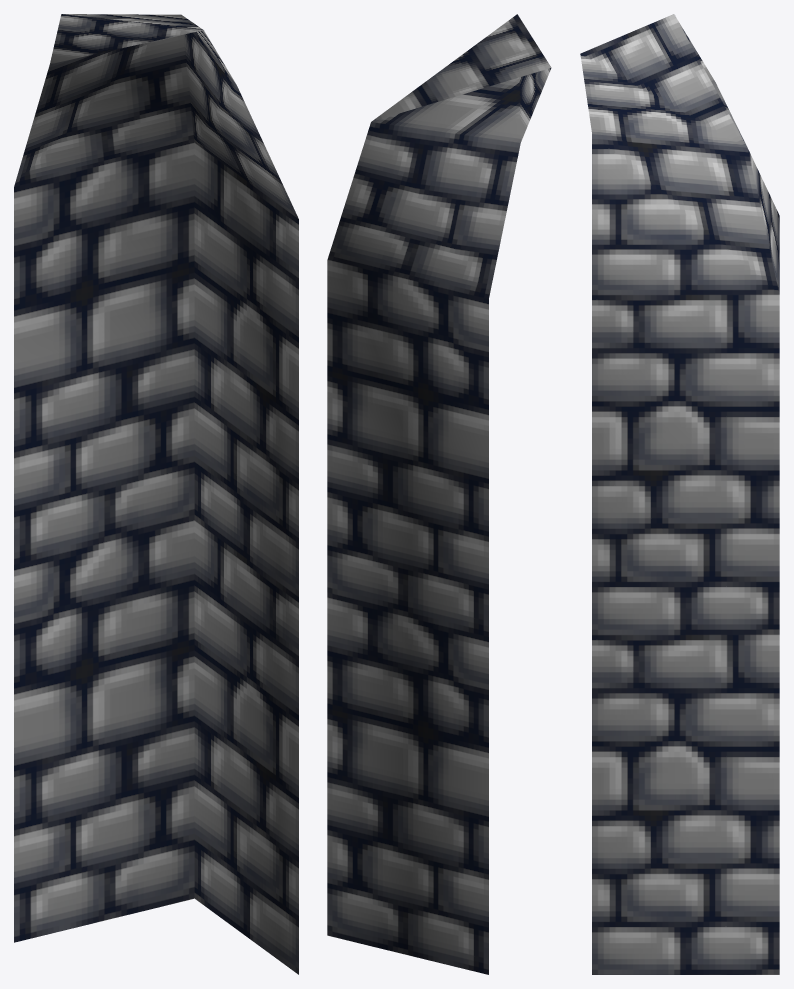
Rendered from MurAngleInt.glb.
3 views of the same model, side by side, from view 1: azimuth 30°, elevation 25°; view 2: azimuth 150°, elevation 25°; view 3: azimuth 270°, elevation 25° (orthographic). The views are drawn at different scales.
Visible parts, largest first — view 1: Mur.001; view 2: Mur.001; view 3: Mur.001.
Part boxes in pixels (x1,y1,x2,y2): Mur.001: (14, 14, 298, 974); Mur.001: (327, 14, 551, 974); Mur.001: (580, 14, 779, 974).
Size of the model in its own units: 1.06 by 5.16 by 1.06.
Materials: 1 (1 with a texture image).
